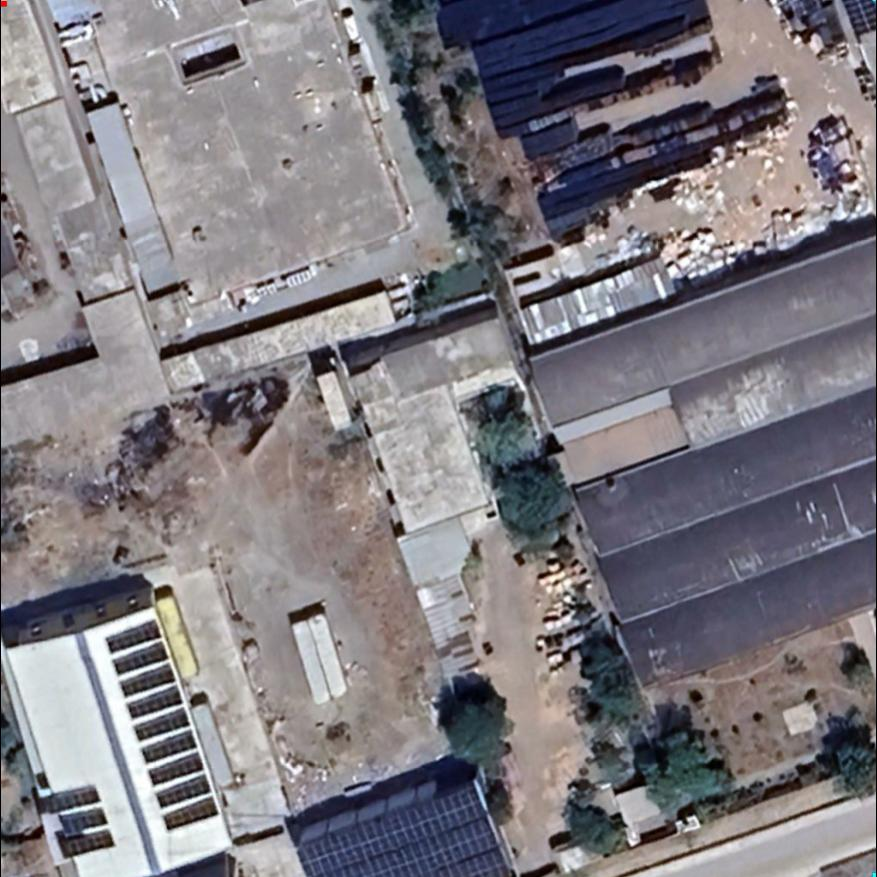Solarpanel: (98, 609, 226, 838), (291, 770, 524, 876), (33, 782, 121, 863), (842, 0, 875, 39)
